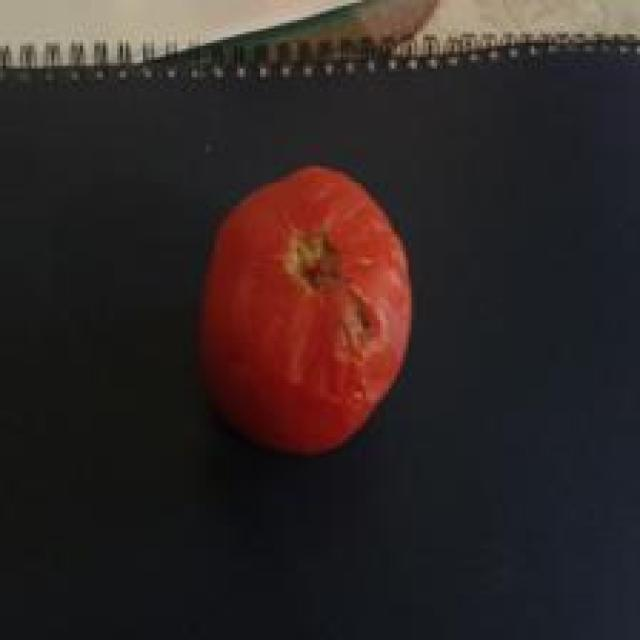overripe: (200, 162, 421, 456)
